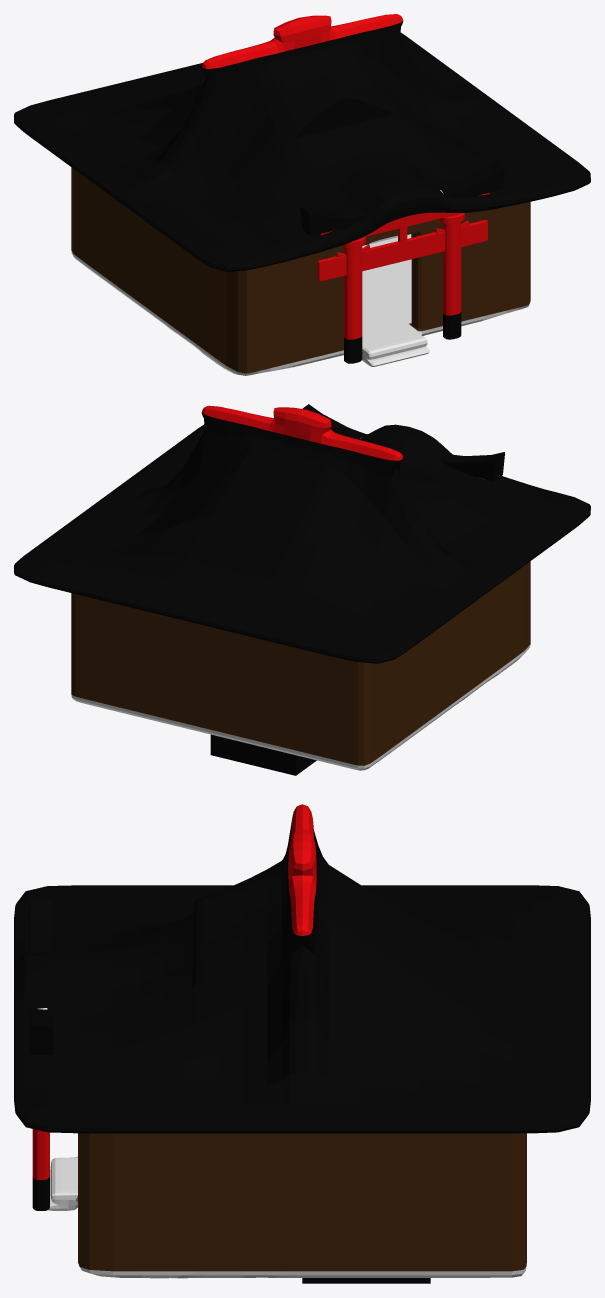
File: Shrine.fbx
3 renders of one model, top to bottom at view 1: azimuth 30°, elevation 25°; view 2: azimuth 150°, elevation 25°; view 3: azimuth 270°, elevation 25°, orthographic. The views are drawn at different scales.
Parts seen in each view (by area): view 1: Cube.001; view 2: Cube.001; view 3: Cube.001.
Boxes of the visible parts, x1,y1,x2,y2 form: Cube.001: (14,14,590,375); Cube.001: (14,404,590,775); Cube.001: (14,804,590,1283).
Size of the model in its own units: 900 by 717 by 900.
